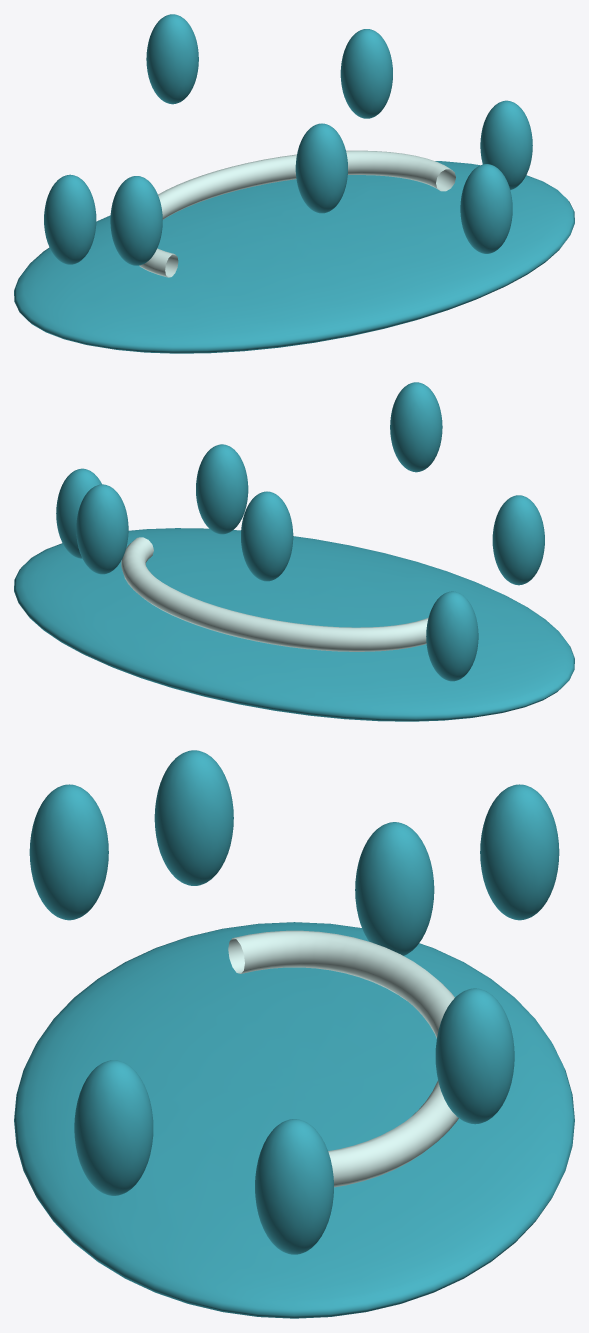
The model's file is material-water-splash.glb.
The picture shows the model from 3 angles, top to bottom: view 1: azimuth 30°, elevation 25°; view 2: azimuth 150°, elevation 25°; view 3: azimuth 270°, elevation 25°; orthographic projection. The views are drawn at different scales.
Visible parts, largest first — view 1: Impact pool, Foam arc, Splash bead.004, Splash bead.003, Splash bead.002, Splash bead.001, Splash bead.005, Splash bead.006, Splash bead; view 2: Impact pool, Foam arc, Splash bead.001, Splash bead.003, Splash bead.004, Splash bead.005, Splash bead.006, Splash bead.002, Splash bead; view 3: Impact pool, Foam arc, Splash bead.001, Splash bead.002, Splash bead.005, Splash bead.006, Splash bead.004, Splash bead, Splash bead.003.
Part boxes in pixels (x1,y1,x2,y2): Impact pool: (14, 161, 574, 353); Foam arc: (139, 150, 455, 277); Splash bead.004: (110, 176, 162, 265); Splash bead.003: (44, 174, 96, 264); Splash bead.002: (146, 14, 198, 104); Splash bead.001: (340, 29, 392, 118); Splash bead.005: (295, 123, 347, 213); Splash bead.006: (460, 164, 512, 253); Splash bead: (480, 100, 532, 189); Impact pool: (14, 528, 574, 721); Foam arc: (121, 537, 428, 651); Splash bead.001: (76, 484, 128, 574); Splash bead.003: (426, 591, 478, 681); Splash bead.004: (492, 495, 544, 585); Splash bead.005: (390, 382, 442, 472); Splash bead.006: (196, 444, 248, 534); Splash bead.002: (241, 491, 293, 581); Splash bead: (56, 468, 101, 558); Impact pool: (14, 922, 574, 1318); Foam arc: (228, 930, 458, 1187); Splash bead.001: (435, 988, 514, 1124); Splash bead.002: (480, 784, 559, 920); Splash bead.005: (29, 784, 108, 920); Splash bead.006: (74, 1060, 153, 1195); Splash bead.004: (154, 750, 233, 885); Splash bead: (255, 1119, 333, 1254); Splash bead.003: (355, 822, 434, 955).
Size of the model in its own units: 1.4 by 0.56 by 0.85.
